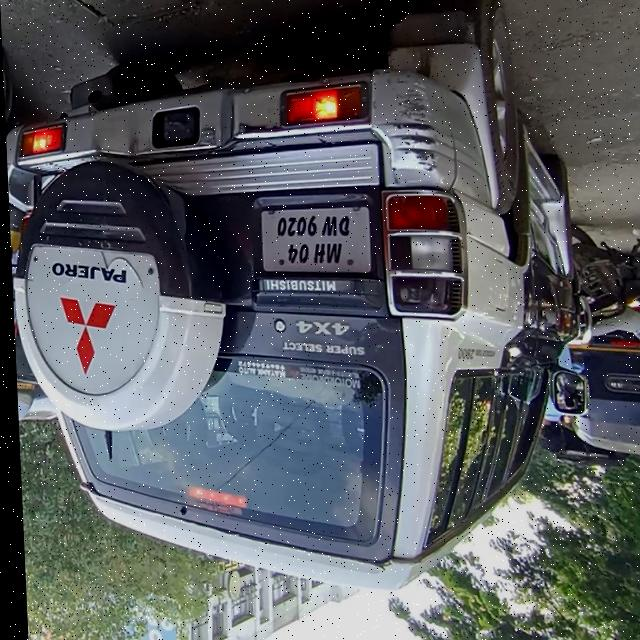plate: (257, 204, 372, 276)
